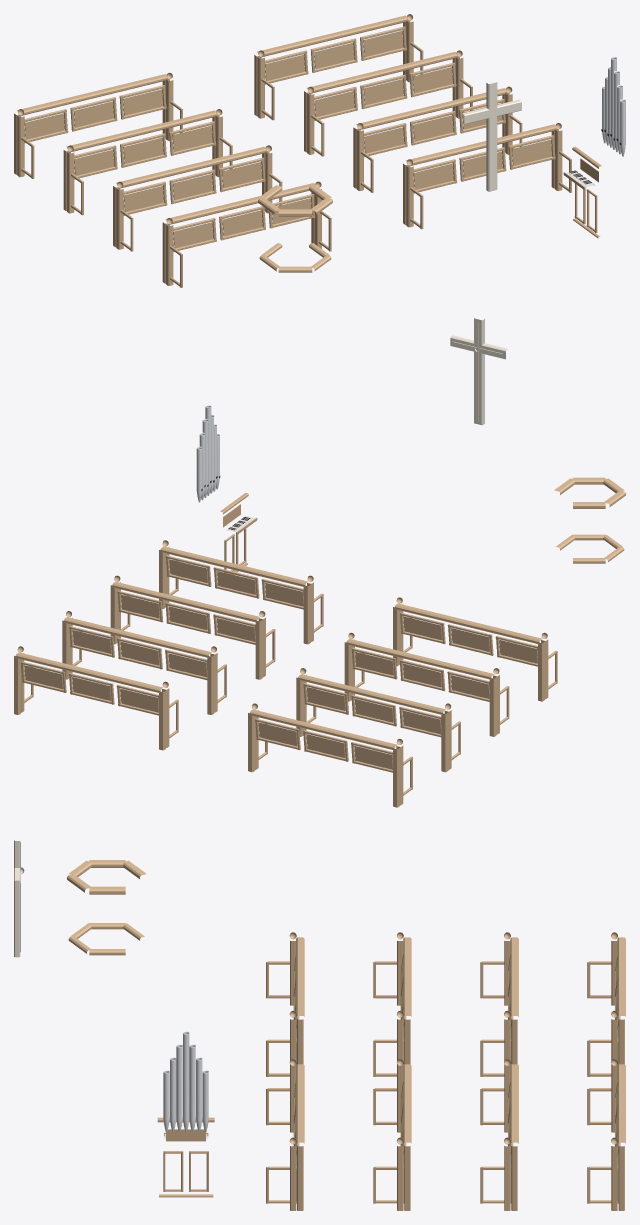
The model's file is lotprop__lot_church_nave_props.glb.
3 views of the same model, one above another, from view 1: azimuth 30°, elevation 25°; view 2: azimuth 150°, elevation 25°; view 3: azimuth 270°, elevation 25° (orthographic). The views are drawn at different scales.
Visible parts, largest first — view 1: lotprop__lot_church_nave_props; view 2: lotprop__lot_church_nave_props; view 3: lotprop__lot_church_nave_props.
Boxes of the visible parts, x1,y1,x2,y2 form: lotprop__lot_church_nave_props: [14, 14, 625, 287]; lotprop__lot_church_nave_props: [14, 318, 625, 807]; lotprop__lot_church_nave_props: [14, 840, 625, 1210].
Size of the model in its own units: 7 by 4.15 by 8.57.
